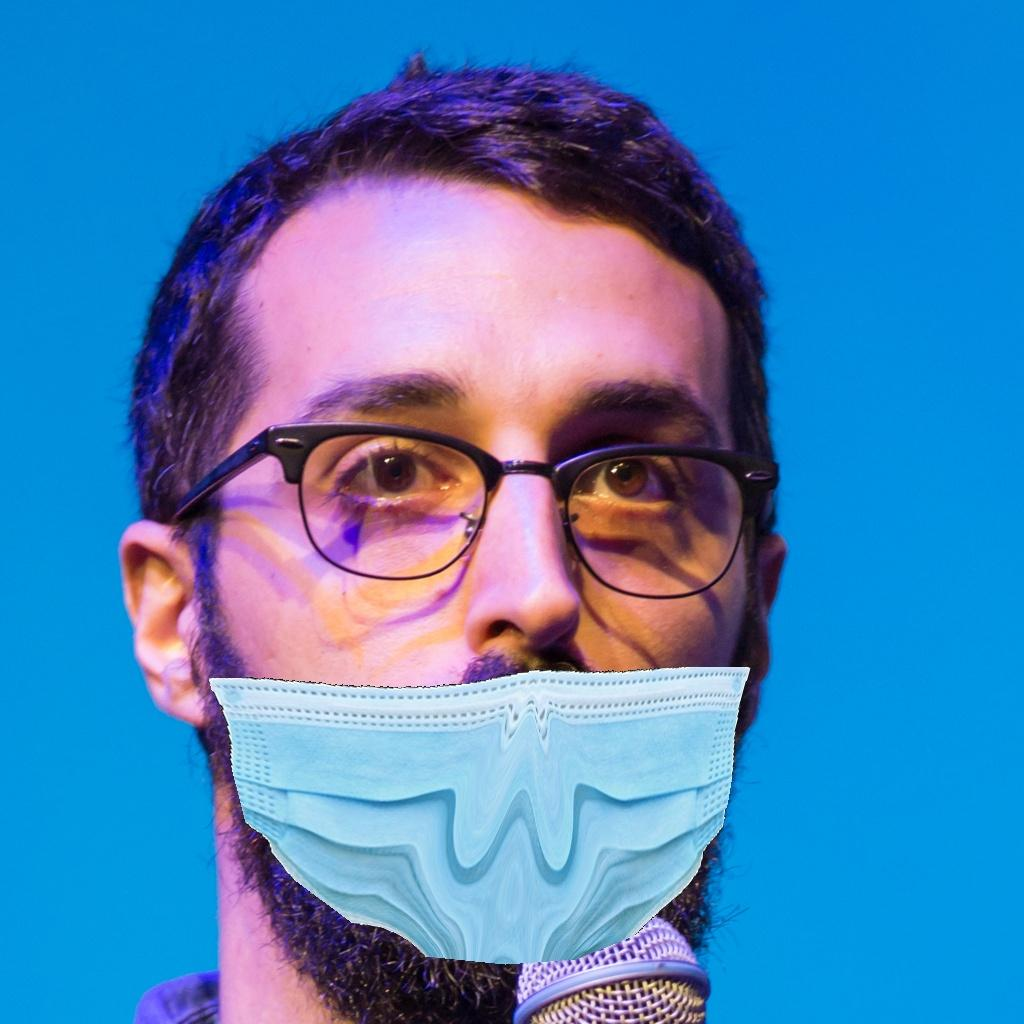Máscara Incorreta: (181, 260, 771, 963)
